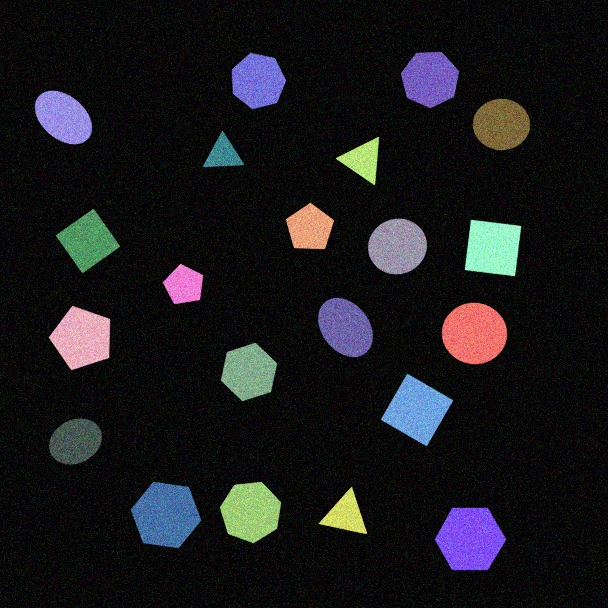Circulo: (441, 302, 508, 365), (367, 218, 428, 275), (472, 98, 531, 151)
Elipse: (317, 297, 374, 358), (34, 90, 93, 145), (48, 418, 103, 465)
Heptagono: (219, 481, 282, 544), (400, 51, 460, 109), (231, 52, 287, 110)
Hexagono: (130, 481, 202, 549), (434, 507, 507, 571), (220, 342, 278, 402)
Pentagono: (48, 305, 111, 371), (285, 202, 335, 250), (162, 263, 204, 305)
Quadrado: (380, 373, 454, 447), (55, 208, 121, 274), (464, 219, 522, 277)
Triangulo: (318, 487, 368, 535), (336, 136, 380, 186), (202, 131, 245, 168)
